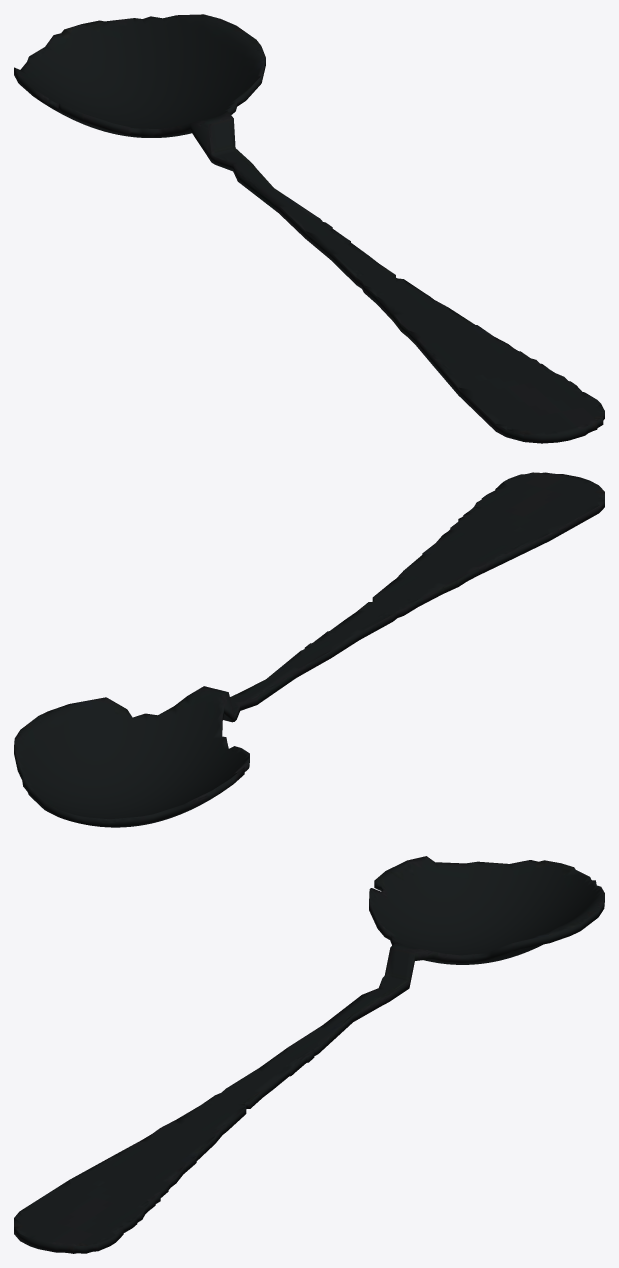
The picture shows the model from 3 angles, top to bottom: view 1: azimuth 30°, elevation 25°; view 2: azimuth 150°, elevation 25°; view 3: azimuth 330°, elevation 25°; orthographic projection. The views are drawn at different scales.
Visible parts, largest first — view 1: body; view 2: body; view 3: body.
Boxes of the visible parts, x1=… form: body: x1=14, y1=14, x2=604, y2=443; body: x1=14, y1=472, x2=604, y2=827; body: x1=14, y1=856, x2=604, y2=1253.
Size of the model in its own units: 0.0407 by 0.0108 by 0.1704.
Materials: 1 (1 with a texture image).
